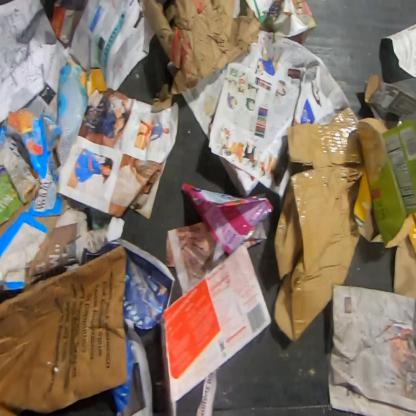cardboard: (0, 59, 108, 295), (270, 106, 364, 343), (0, 243, 129, 415), (353, 73, 415, 301)
soft_plastic: (178, 181, 275, 265)
